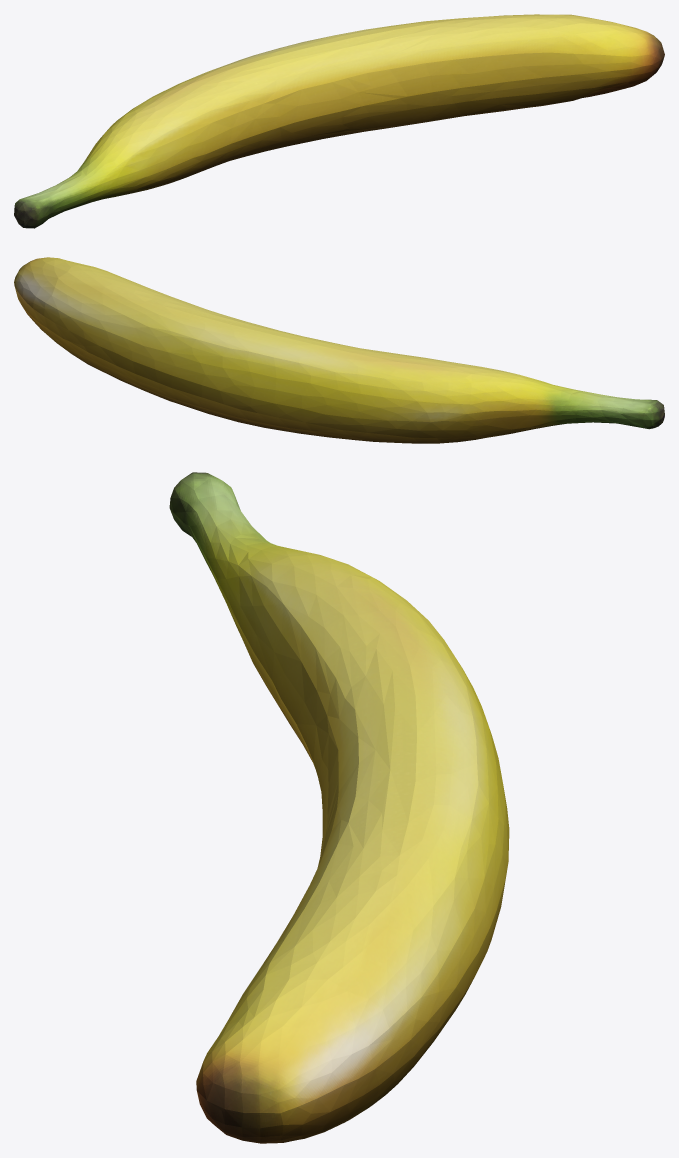
File: banana_000019_sample.glb
3 renders of one model, top to bottom at view 1: azimuth 30°, elevation 25°; view 2: azimuth 150°, elevation 25°; view 3: azimuth 270°, elevation 25°, orthographic. The views are drawn at different scales.
Parts seen in each view (by area): view 1: world; view 2: world; view 3: world.
Part boxes in pixels (x1,y1,x2,y2): world: [14, 14, 664, 228]; world: [14, 257, 664, 443]; world: [169, 472, 509, 1143].
Size of the model in its own units: 0.9802 by 0.1297 by 0.2283.
1 material, 1 textured.
